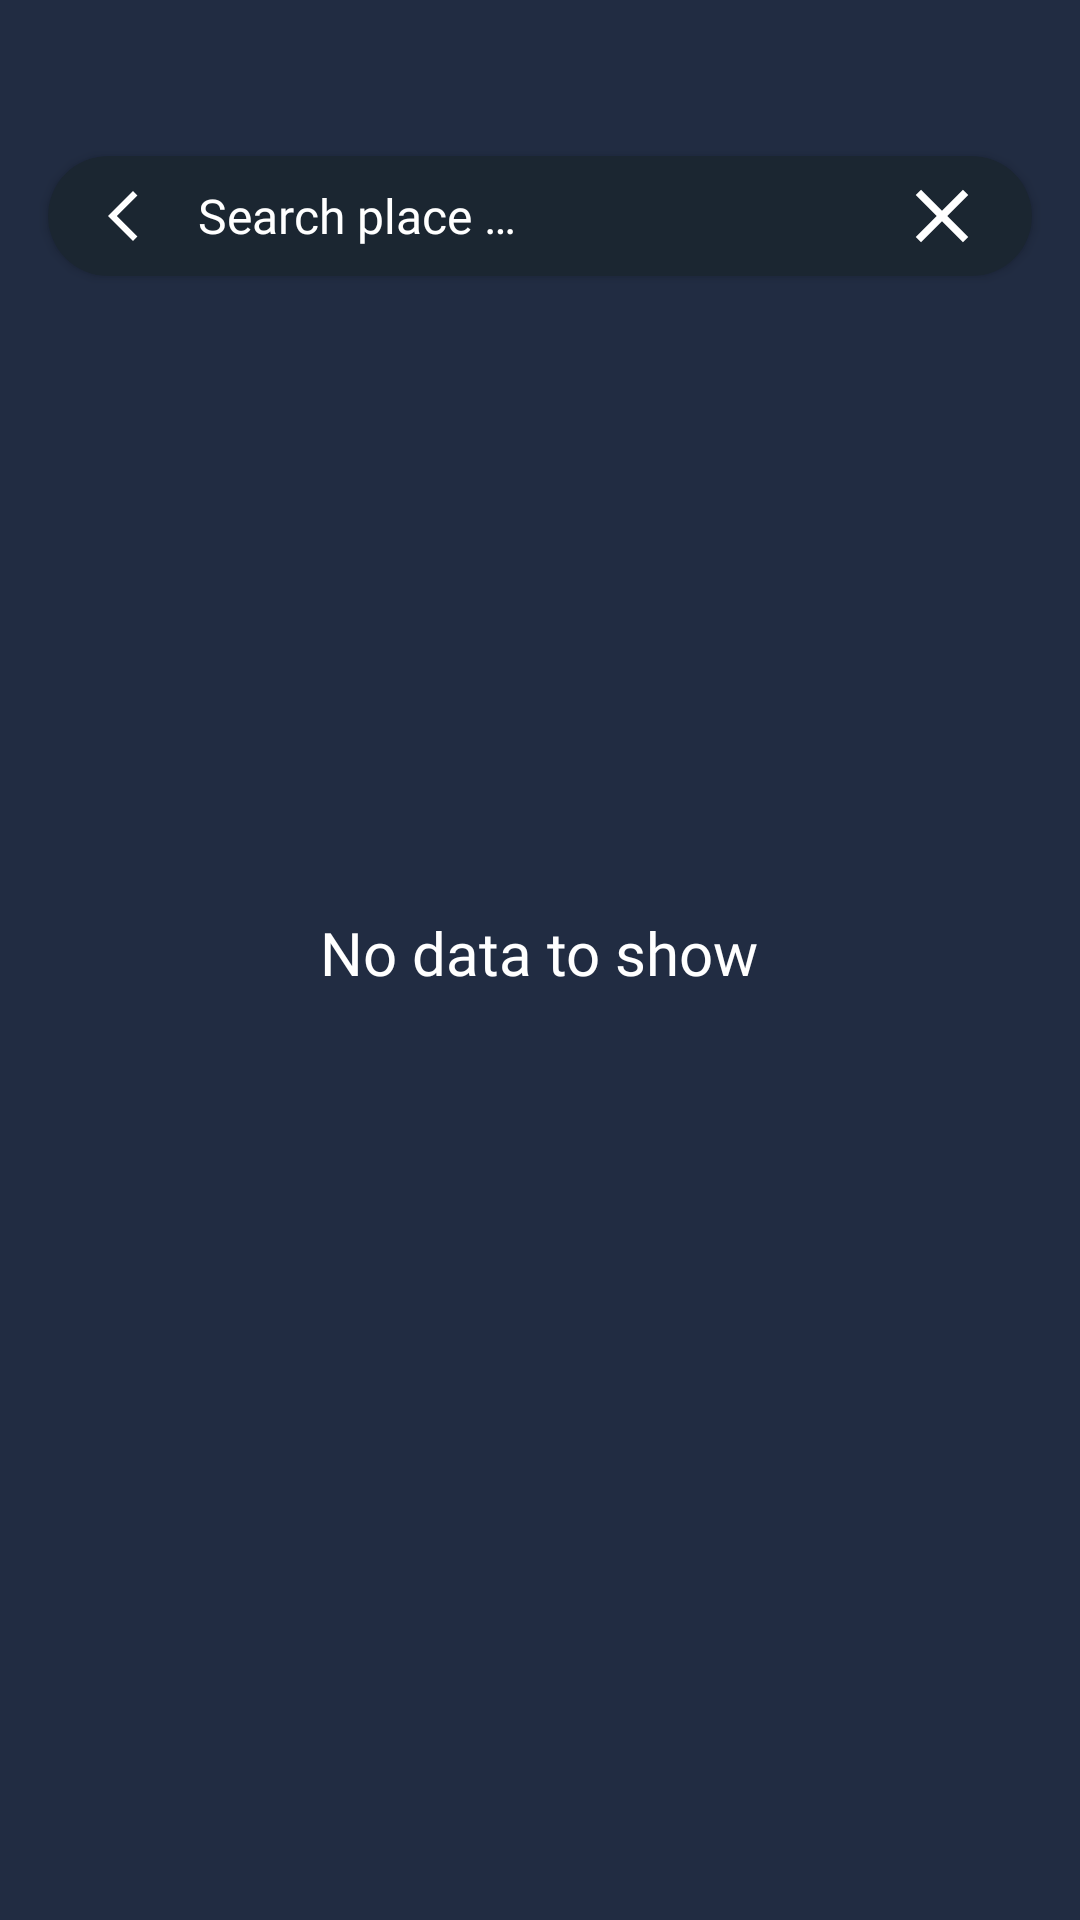

Named icons in this screenshot (1080px x 1920px) and their bounding boxes, {"left": x1, "top": y1, "right": x2, "bottom": y2}:
arrow back: {"left": 108, "top": 191, "right": 138, "bottom": 241}
clear: {"left": 916, "top": 190, "right": 968, "bottom": 242}
